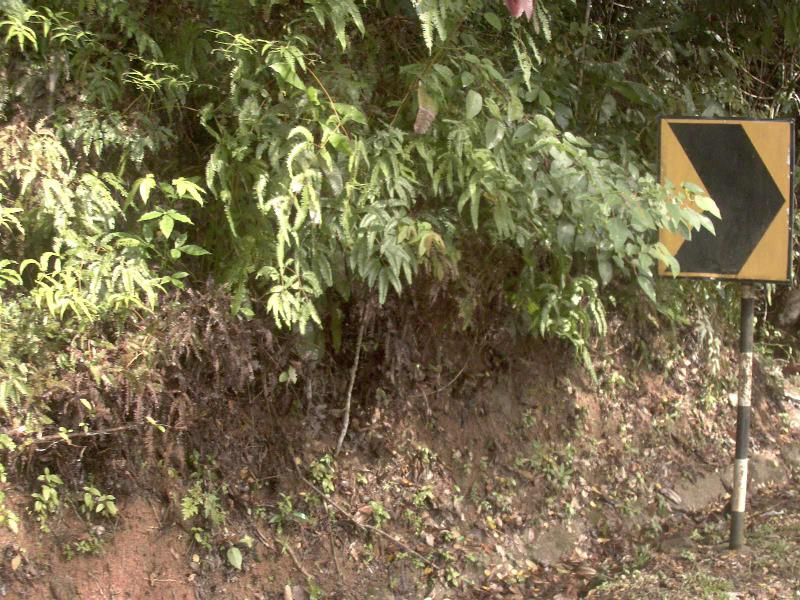traffic_sign: (643, 97, 799, 301)
